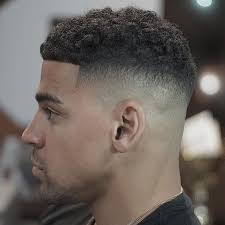black_male: (25, 32, 190, 210)
